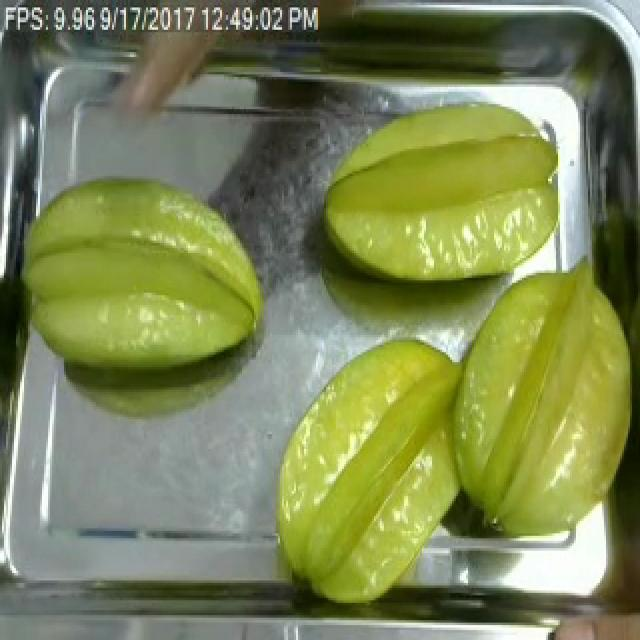fruit: (424, 255, 640, 560), (260, 328, 480, 616), (6, 164, 276, 394), (308, 87, 572, 295)
